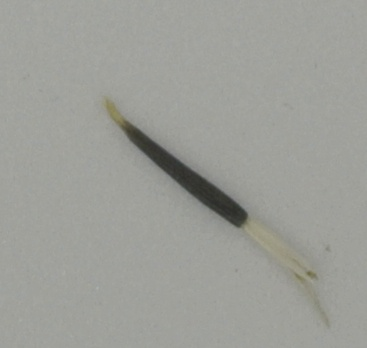เมล็ดดีเรียวยาว: (101, 96, 334, 328)
